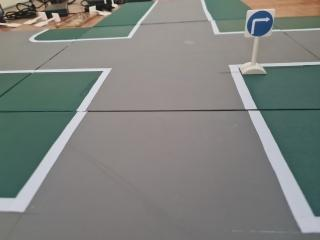right: (241, 6, 276, 45)
